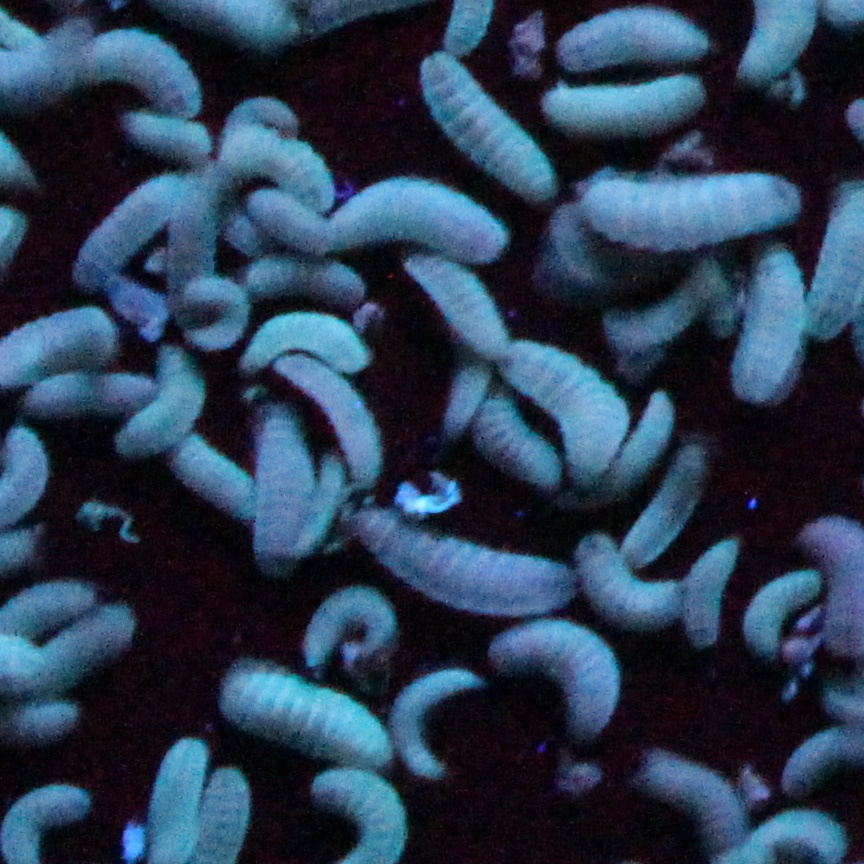larve: (353, 490, 586, 621), (212, 651, 397, 782), (412, 48, 564, 203), (500, 333, 635, 495), (579, 158, 805, 251), (310, 161, 510, 264), (482, 618, 628, 738), (528, 67, 720, 148), (399, 244, 523, 369), (69, 172, 179, 293), (551, 2, 717, 79), (289, 579, 410, 682), (389, 651, 479, 789), (115, 336, 205, 472), (231, 300, 379, 382), (731, 235, 800, 402), (599, 379, 681, 508), (177, 440, 295, 528), (736, 562, 822, 667), (682, 520, 733, 658), (115, 105, 218, 162)
